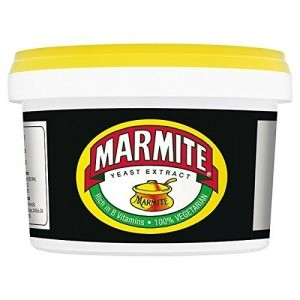yeast spread_brain food: (72, 118, 254, 229)
